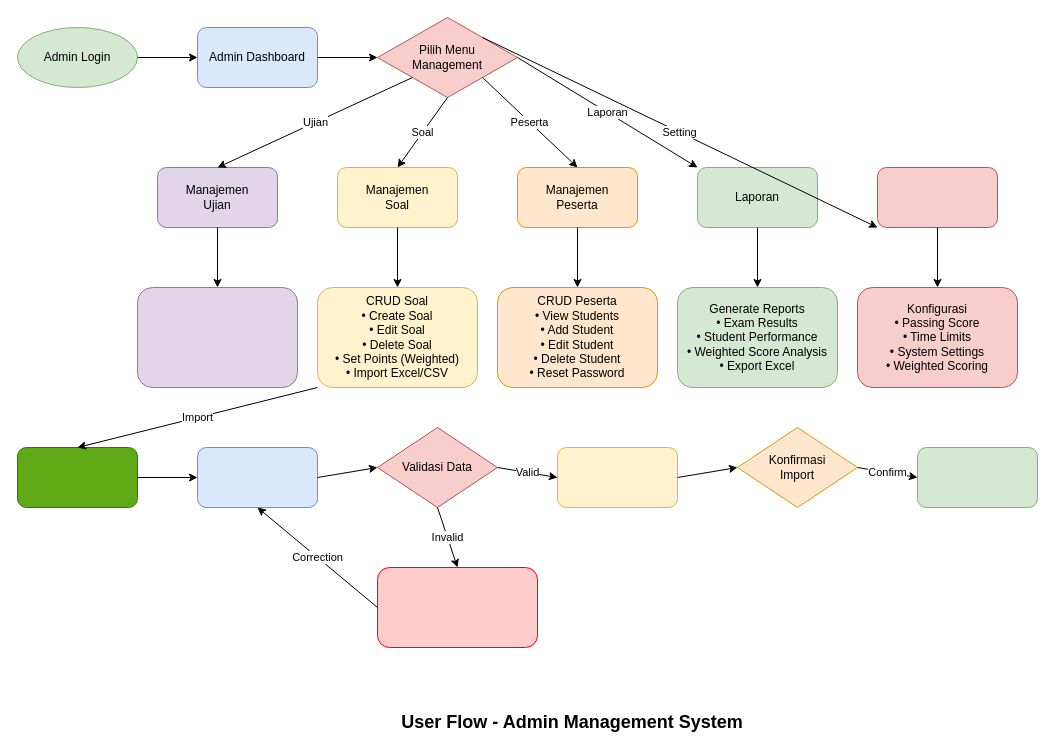
The diagram is 1055 pixels wide and 755 high, and some of its shapes have lost their labels. The shapes that lost their labels are listed below. From the top down, each one's centre as x and y in pixels, then its label:
At (x=937, y=197): "Pengaturan Sistem".
At (x=217, y=337): "CRUD Ujian • Create • Read • Update • Delete • Activate/Deactivate".
At (x=77, y=477): "Import Process".
At (x=257, y=477): "Upload File (Excel/CSV)".
At (x=617, y=477): "Preview Data".
At (x=977, y=477): "Simpan ke Database".
At (x=457, y=607): "Handle Error • Show Error Message • Highlight Invalid Data • Allow Correction".
